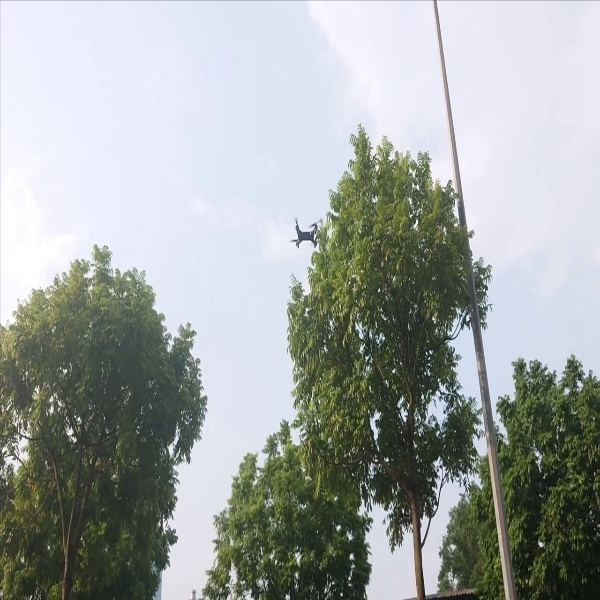drone: (283, 215, 322, 247)
